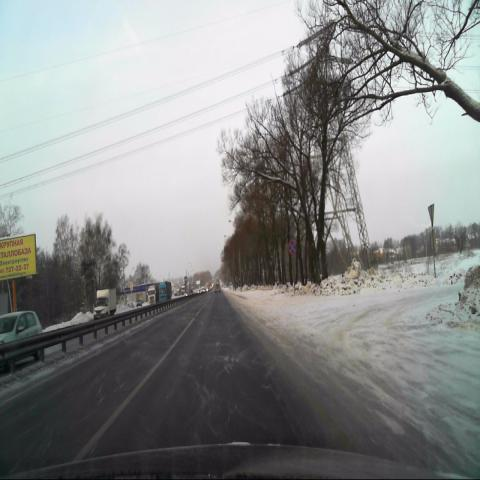3_27: (288, 239, 296, 255)
